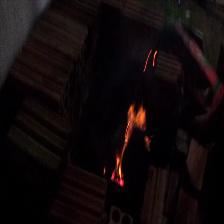fire: (111, 96, 156, 187)
